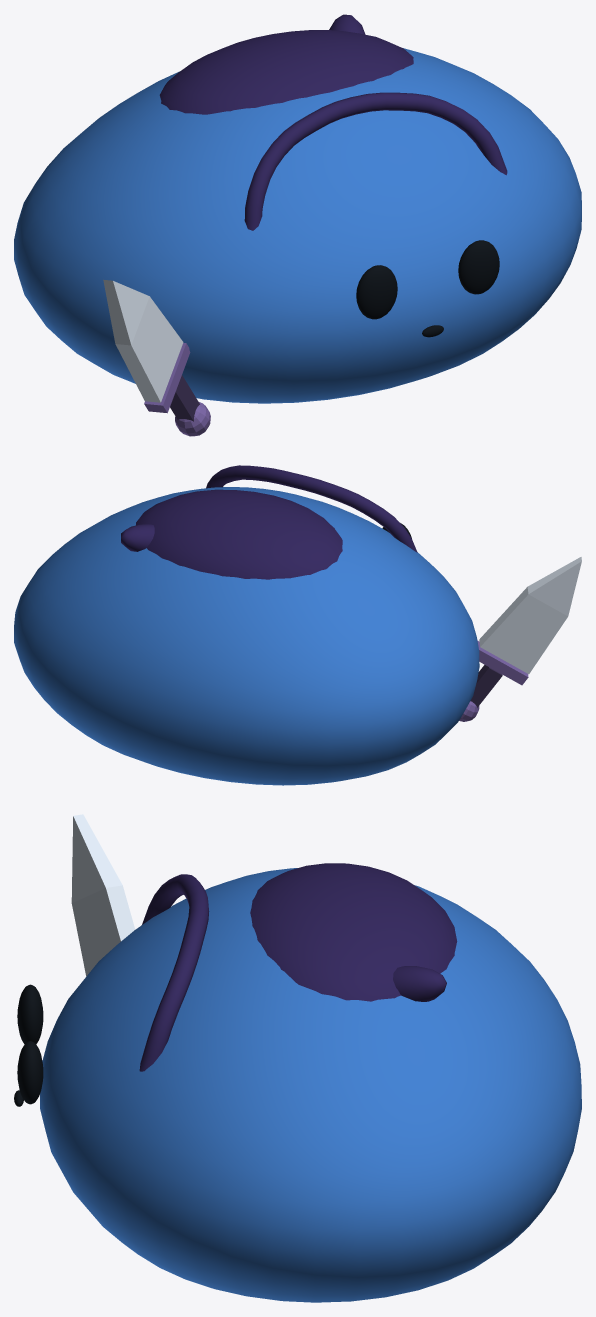
File: dagger-slime.glb
3 renders of one model, top to bottom at view 1: azimuth 30°, elevation 25°; view 2: azimuth 150°, elevation 25°; view 3: azimuth 270°, elevation 25°, orthographic. The views are drawn at different scales.
Visible parts, largest first — view 1: Body, Hood_Cowl, Hood_Rim, Dagger_Blade, Eye_L, Eye_R, Dagger_Guard, Dagger_Grip, Dagger_Pommel; view 2: Body, Hood_Cowl, Dagger_Blade, Hood_Rim, Dagger_Guard, Hood_Tail, Dagger_Grip; view 3: Body, Hood_Cowl, Dagger_Blade, Hood_Rim, Hood_Tail, Eye_R, Eye_L.
Part boxes in pixels (x1,y1,x2,y2): Body: (14, 48, 581, 403); Hood_Cowl: (159, 30, 413, 114); Hood_Rim: (244, 92, 507, 230); Dagger_Blade: (103, 279, 183, 402); Eye_L: (356, 265, 397, 319); Eye_R: (458, 240, 499, 294); Dagger_Guard: (144, 343, 190, 413); Dagger_Grip: (170, 375, 199, 421); Dagger_Pommel: (175, 402, 210, 436); Body: (14, 487, 479, 785); Hood_Cowl: (136, 489, 342, 579); Dagger_Blade: (479, 557, 581, 673); Hood_Rim: (206, 465, 417, 552); Dagger_Guard: (477, 640, 528, 685); Hood_Tail: (121, 524, 154, 551); Dagger_Grip: (470, 664, 502, 707); Body: (40, 868, 581, 1302); Hood_Cowl: (250, 863, 457, 1001); Dagger_Blade: (71, 814, 135, 976); Hood_Rim: (139, 874, 209, 1071); Hood_Tail: (393, 966, 446, 1001); Eye_R: (17, 1041, 43, 1104); Eye_L: (17, 984, 43, 1044).
Bounding box in the file's own units: 2.58 × 1.23 × 2.
